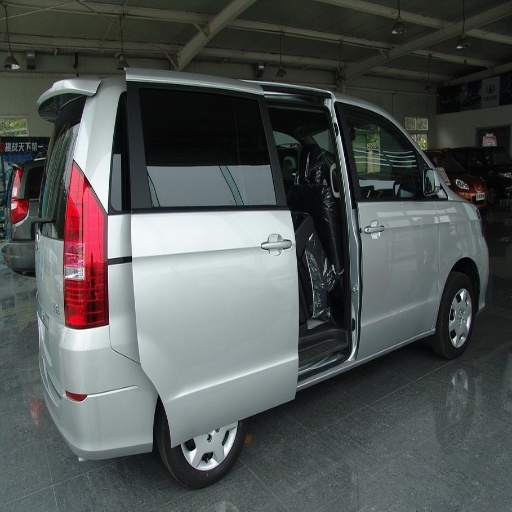back_bumper: (40, 320, 161, 463), (168, 399, 237, 440)
back_glass: (142, 111, 205, 166)
back_left_light: (54, 226, 94, 327)
trunk: (67, 210, 268, 421), (428, 215, 475, 284)
